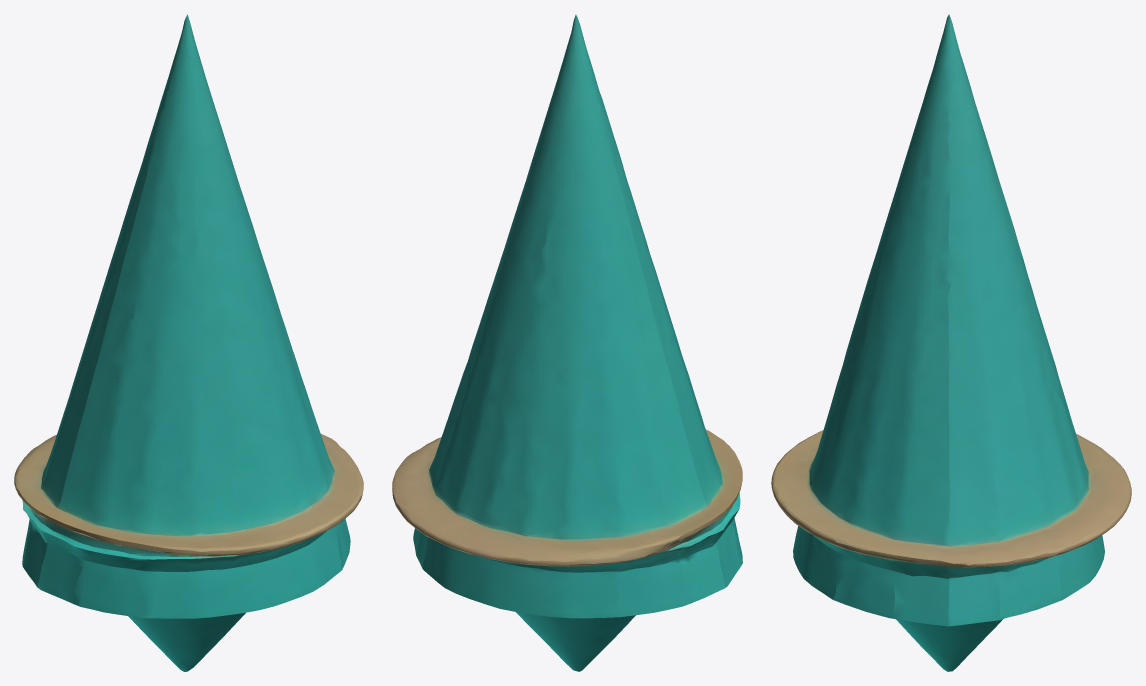
File: crystal.glb
3 renders of one model, left to right at view 1: azimuth 30°, elevation 25°; view 2: azimuth 150°, elevation 25°; view 3: azimuth 270°, elevation 25°, orthographic.
Visible parts, largest first — view 1: Mesh; view 2: Mesh; view 3: Mesh.
Part boxes in pixels (x1,y1,x2,y2): Mesh: [14, 14, 363, 671]; Mesh: [392, 14, 742, 671]; Mesh: [771, 14, 1131, 671].
Size of the model in its own units: 0.9343 by 1.91 by 0.9469.
Materials: 1 (1 with a texture image).
